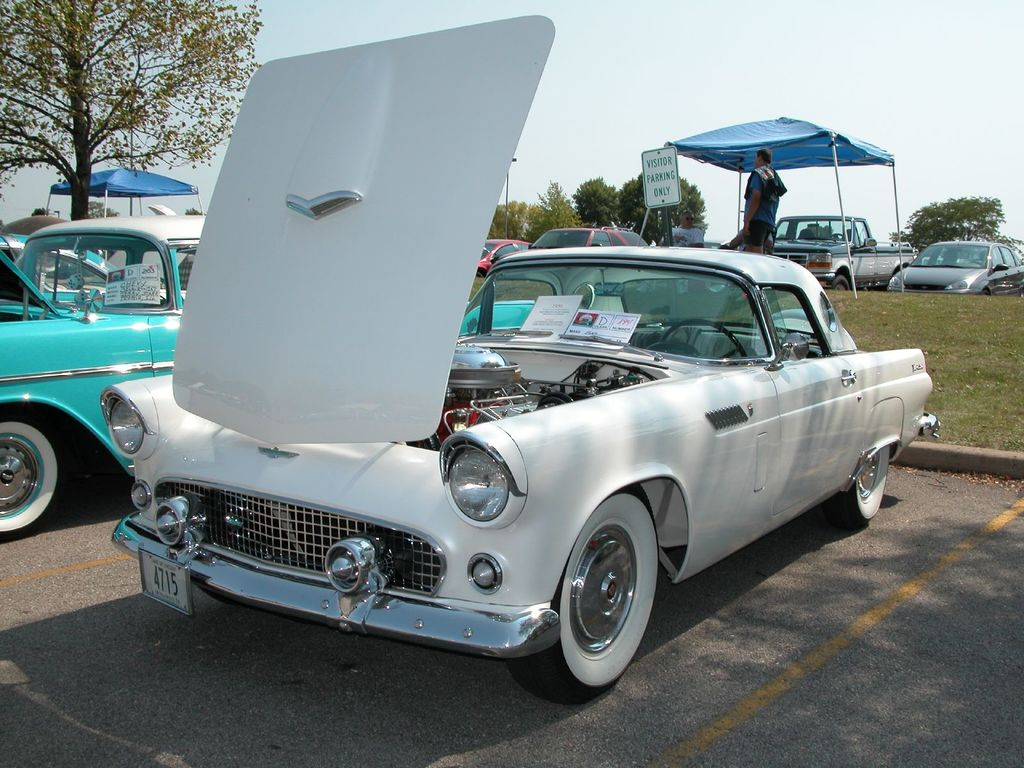Car: (90, 10, 940, 707), (0, 214, 535, 542), (0, 211, 213, 540), (473, 216, 1023, 299), (0, 231, 184, 311), (766, 206, 912, 291), (877, 240, 1023, 296), (533, 217, 649, 243)
